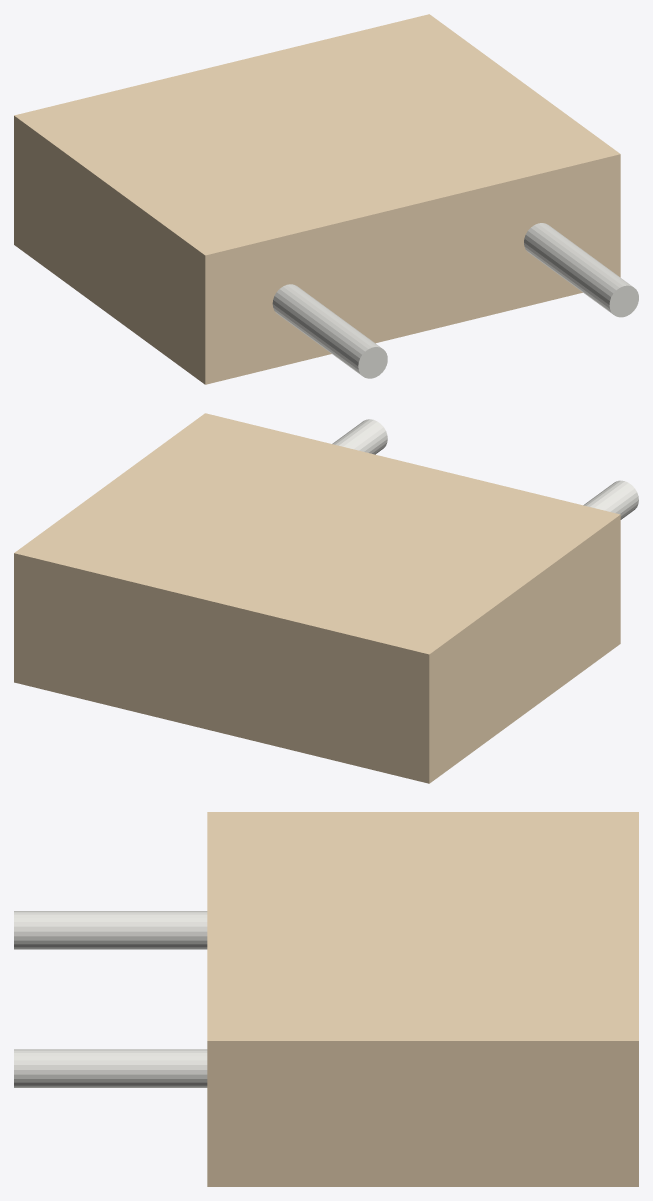
The picture shows the model from 3 angles, top to bottom: view 1: azimuth 30°, elevation 25°; view 2: azimuth 150°, elevation 25°; view 3: azimuth 270°, elevation 25°; orthographic projection. The views are drawn at different scales.
Visible parts, largest first — view 1: Shape_IndexedFaceSet.005, Shape_IndexedFaceSet.002, Shape_IndexedFaceSet.004, Shape_IndexedFaceSet.007, Shape_IndexedFaceSet.006, Shape_IndexedFaceSet.009, Shape_IndexedFaceSet.008; view 2: Shape_IndexedFaceSet.005, Shape_IndexedFaceSet.001, Shape_IndexedFaceSet.004, Shape_IndexedFaceSet.007, Shape_IndexedFaceSet.006; view 3: Shape_IndexedFaceSet.005, Shape_IndexedFaceSet.003, Shape_IndexedFaceSet.006, Shape_IndexedFaceSet.007.
Part boxes in pixels (box(x1,y1,x2,y2)): Shape_IndexedFaceSet.005: box(14, 14, 620, 255); Shape_IndexedFaceSet.002: box(205, 154, 620, 384); Shape_IndexedFaceSet.004: box(14, 116, 205, 384); Shape_IndexedFaceSet.007: box(272, 284, 380, 375); Shape_IndexedFaceSet.006: box(524, 223, 632, 313); Shape_IndexedFaceSet.009: box(358, 347, 387, 378); Shape_IndexedFaceSet.008: box(609, 285, 638, 317); Shape_IndexedFaceSet.005: box(14, 413, 620, 654); Shape_IndexedFaceSet.001: box(14, 553, 429, 783); Shape_IndexedFaceSet.004: box(429, 515, 620, 783); Shape_IndexedFaceSet.007: box(583, 480, 638, 519); Shape_IndexedFaceSet.006: box(332, 419, 387, 454); Shape_IndexedFaceSet.005: box(207, 812, 638, 1040); Shape_IndexedFaceSet.003: box(207, 1041, 638, 1186); Shape_IndexedFaceSet.006: box(14, 1049, 207, 1087); Shape_IndexedFaceSet.007: box(14, 911, 207, 949).
Bounding box in the file's own units: 3.31 × 0.984 × 3.82.
